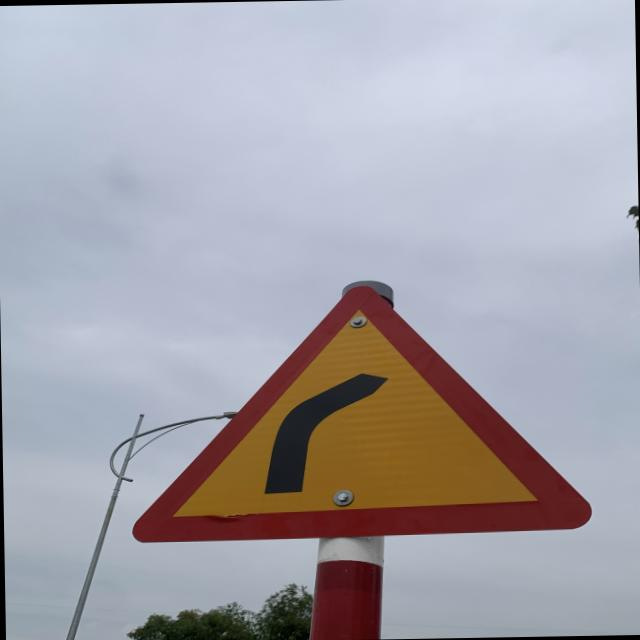Duong_Nguoi_Di_Bo_Cat_Ngang: (124, 281, 594, 544)
